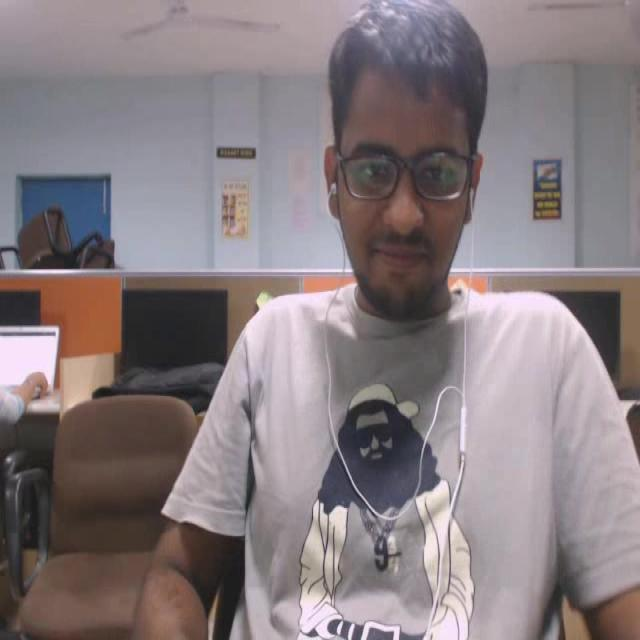Engaged: (310, 9, 520, 339)
